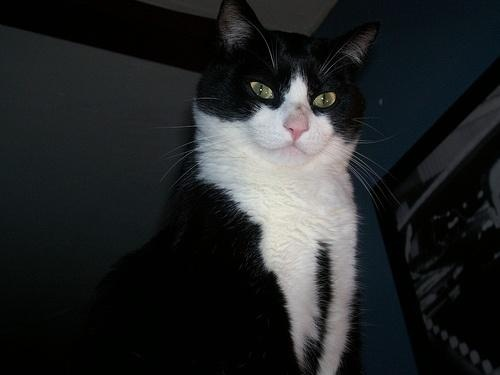cat: (92, 4, 383, 375)
